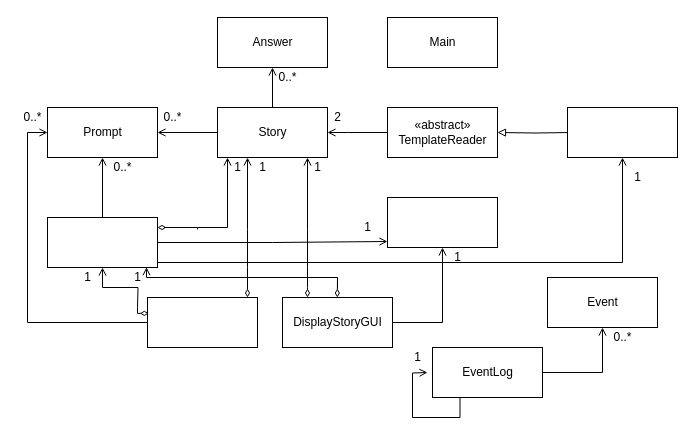
The diagram is 695 pixels wide and 443 high, and some of its shapes have lost their labels. The box of each missing label's shape, as (x1, y1, x2, y2) in pixels:
AnswerStoryGUI: (146, 296, 258, 348)
ReadStory: (566, 106, 678, 158)
StoryAppGUI: (46, 216, 158, 268)
WriteStory: (386, 196, 498, 248)
